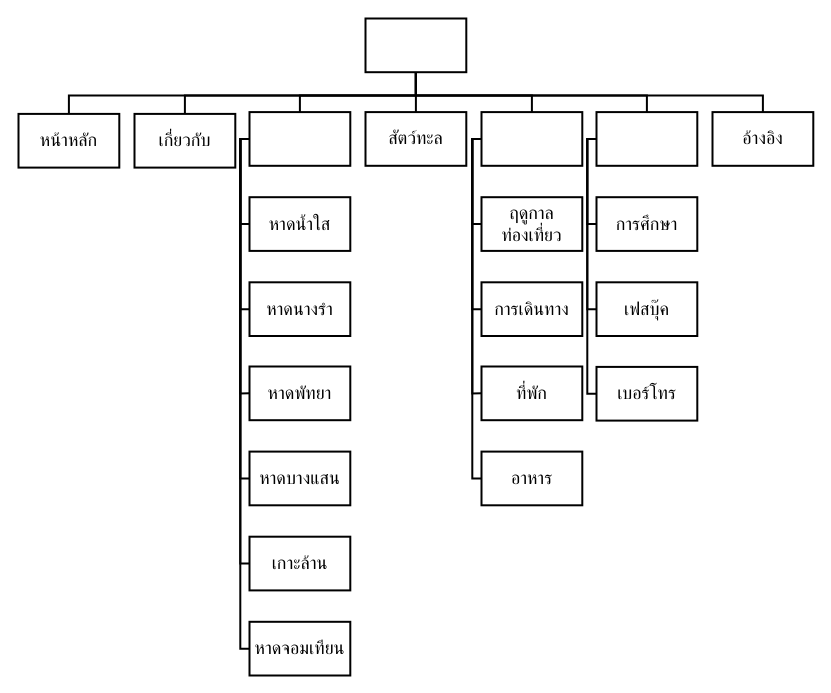
Image size: 831x693. Some labels were removed from this diagram. The shapes that lost their labels are listed below. From the top down, each one's centre as x and y in pixels, then its label:
At pixel 415 45: "อินเด็กซ์".
At pixel 299 138: "ชายหาด".
At pixel 531 138: "ข้อมูล การท่องเที่ยว".
At pixel 646 138: "ผู้จัดทำ".
